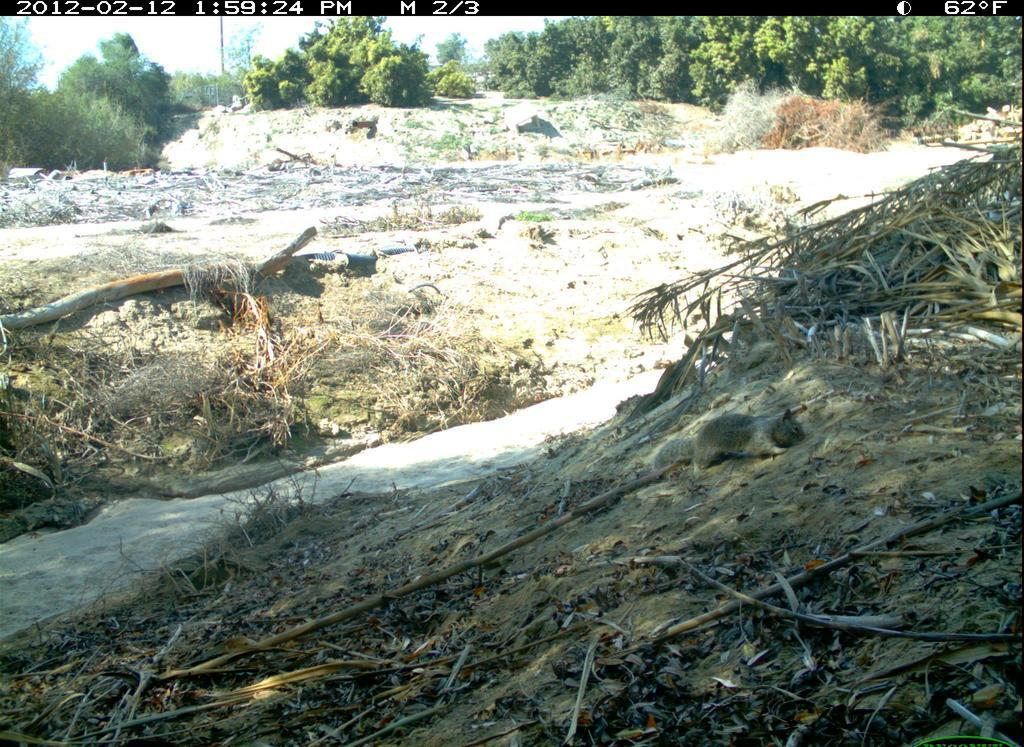squirrel: (649, 406, 812, 479)
